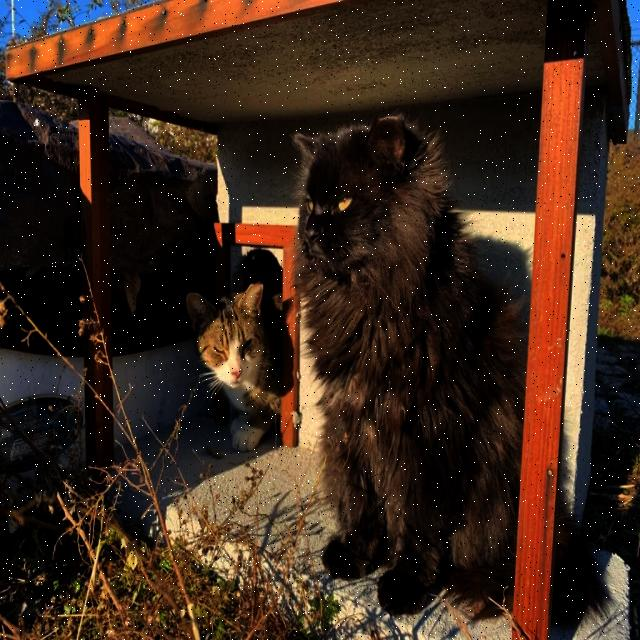cat: (294, 115, 524, 613), (186, 282, 282, 452), (554, 523, 601, 622)
